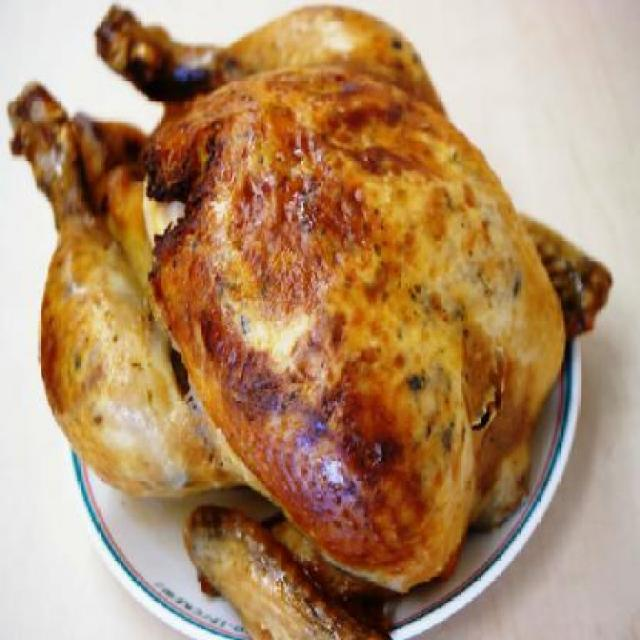Chicken roast: (21, 6, 564, 640)
